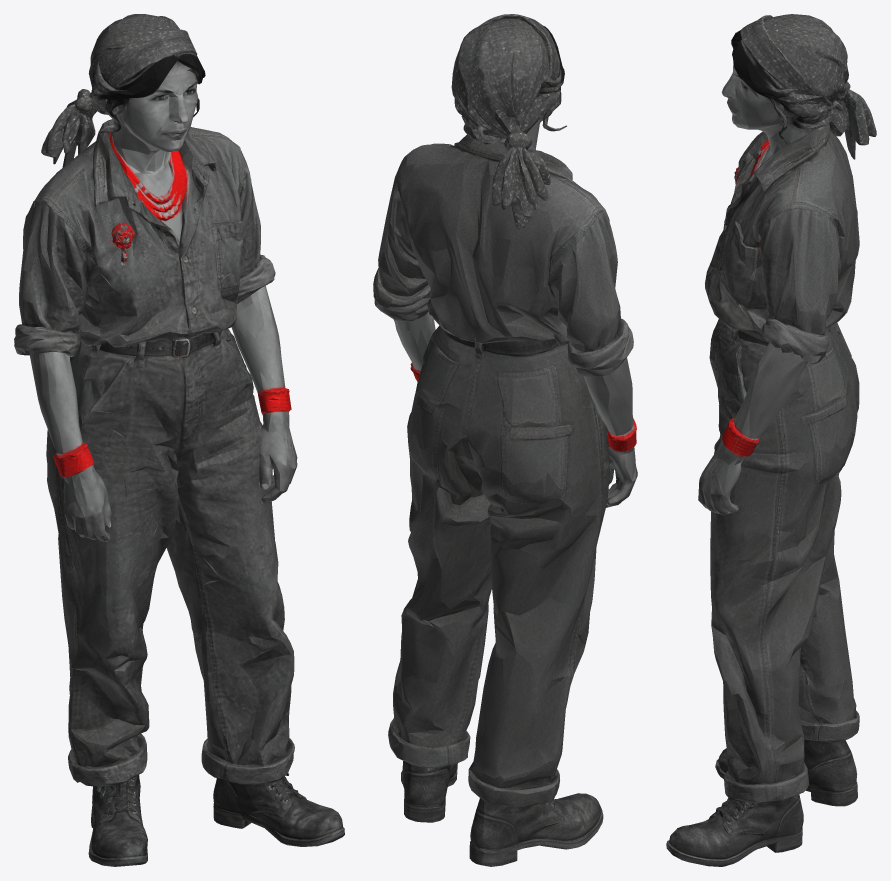
The model's file is cast_observer_woman.glb.
3 renders of one model, left to right at view 1: azimuth 30°, elevation 25°; view 2: azimuth 150°, elevation 25°; view 3: azimuth 270°, elevation 25°, orthographic. The views are drawn at different scales.
Visible parts, largest first — view 1: CastObserverWomanMesh; view 2: CastObserverWomanMesh; view 3: CastObserverWomanMesh.
Part boxes in pixels (left/top/right/bottom): CastObserverWomanMesh: left=14, top=14, right=344, bottom=866; CastObserverWomanMesh: left=373, top=14, right=637, bottom=866; CastObserverWomanMesh: left=666, top=14, right=876, bottom=866.
Size of the model in its own units: 0.6575 by 1.9 by 0.4625.
1 material, 1 textured.
